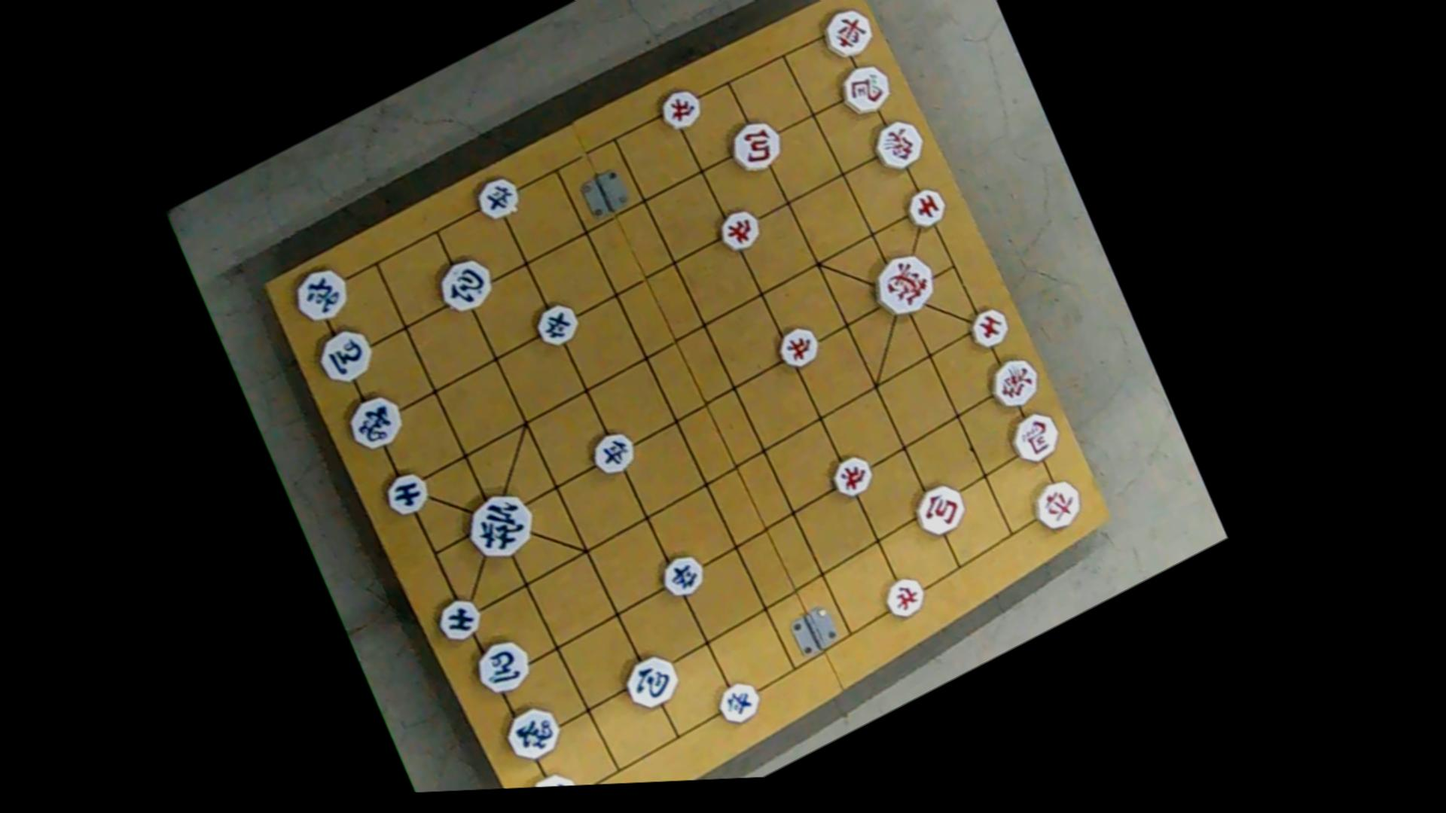cha_green: (285, 260, 355, 330), (520, 763, 587, 787)
cha_red: (816, 0, 880, 65), (1026, 474, 1090, 537)
jol_green: (586, 426, 642, 483), (530, 297, 585, 353), (470, 171, 525, 227), (653, 547, 708, 601), (710, 675, 764, 729)
jol_red: (769, 318, 823, 371), (653, 83, 706, 136), (824, 449, 877, 502), (712, 205, 764, 258), (878, 571, 930, 623)
ma_green: (463, 629, 541, 705), (310, 321, 380, 391)
ma_red: (999, 403, 1069, 471), (831, 53, 898, 120)
po_green: (615, 649, 685, 719), (430, 251, 499, 319)
po_red: (721, 113, 787, 180), (907, 476, 972, 541)
sa_green: (429, 589, 491, 649), (379, 464, 436, 520)
sa_red: (962, 297, 1015, 352), (898, 180, 952, 233)
sang_green: (336, 384, 413, 458), (496, 697, 569, 768)
sang_red: (980, 351, 1048, 415), (862, 112, 929, 175)
wang_green: (457, 483, 544, 568)
wang_red: (865, 246, 944, 325)
